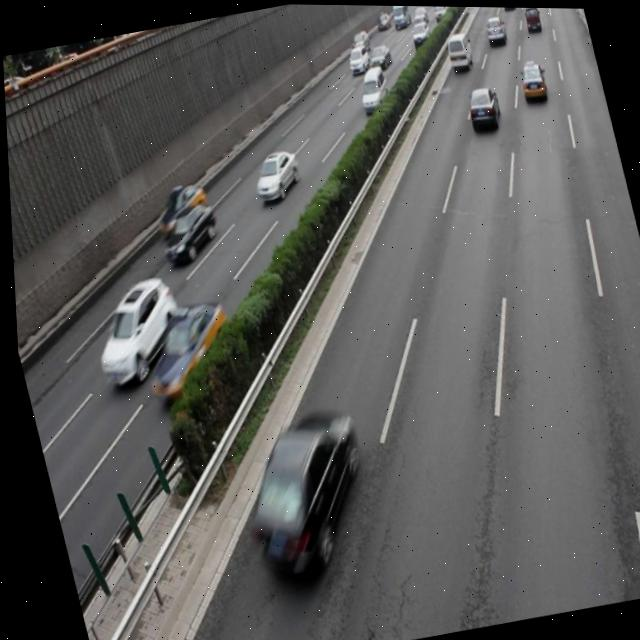car: (218, 403, 379, 582), (80, 273, 190, 392), (127, 296, 237, 405), (152, 200, 220, 267), (147, 181, 211, 242), (245, 145, 303, 203), (461, 83, 502, 133), (514, 58, 548, 102)
truck: (353, 63, 391, 112)
